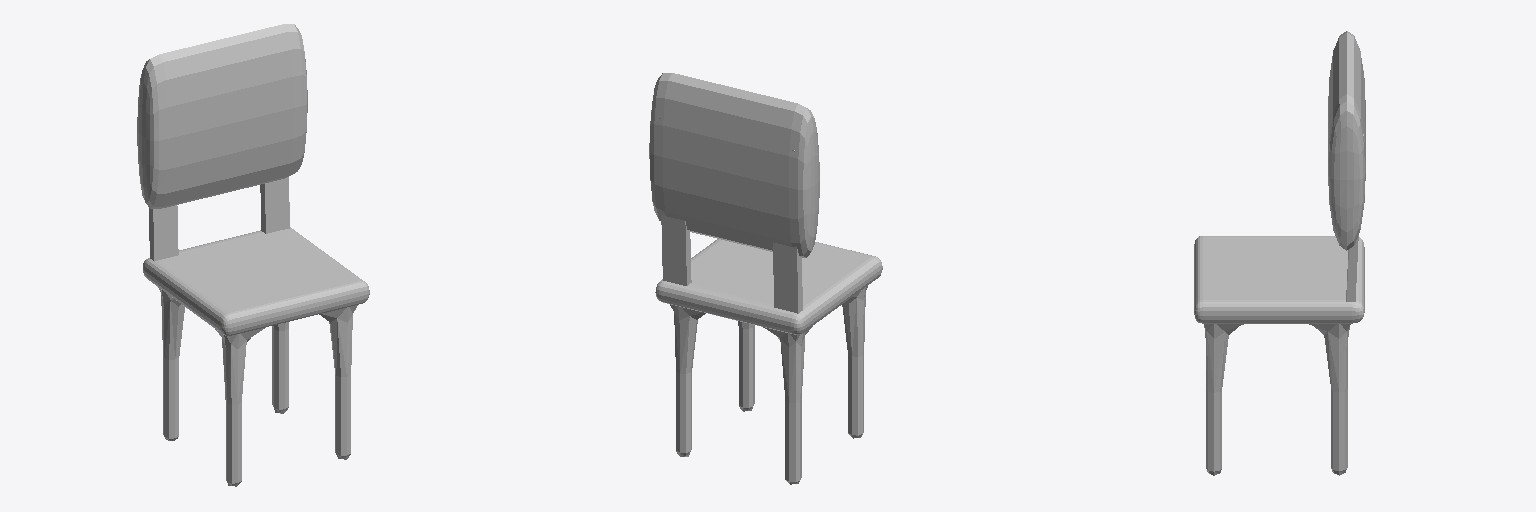
The model's file is stol.obj.
The picture shows the model from 3 angles: view 1: azimuth 30°, elevation 25°; view 2: azimuth 150°, elevation 25°; view 3: azimuth 270°, elevation 25°; orthographic projection.
Visible parts, largest first — view 1: Cube_Cube.001, Cube.001_Cube.002; view 2: Cube.001_Cube.002, Cube_Cube.001; view 3: Cube_Cube.001, Cube.001_Cube.002.
Boxes of the visible parts, box(x1,y1,x2,y2) form: Cube_Cube.001: box(143, 177, 369, 486); Cube.001_Cube.002: box(137, 24, 307, 208); Cube.001_Cube.002: box(649, 73, 819, 257); Cube_Cube.001: box(655, 118, 882, 484); Cube_Cube.001: box(1194, 70, 1364, 475); Cube.001_Cube.002: box(1328, 31, 1365, 250).
Size of the model in its own units: 2.17 by 4.95 by 2.